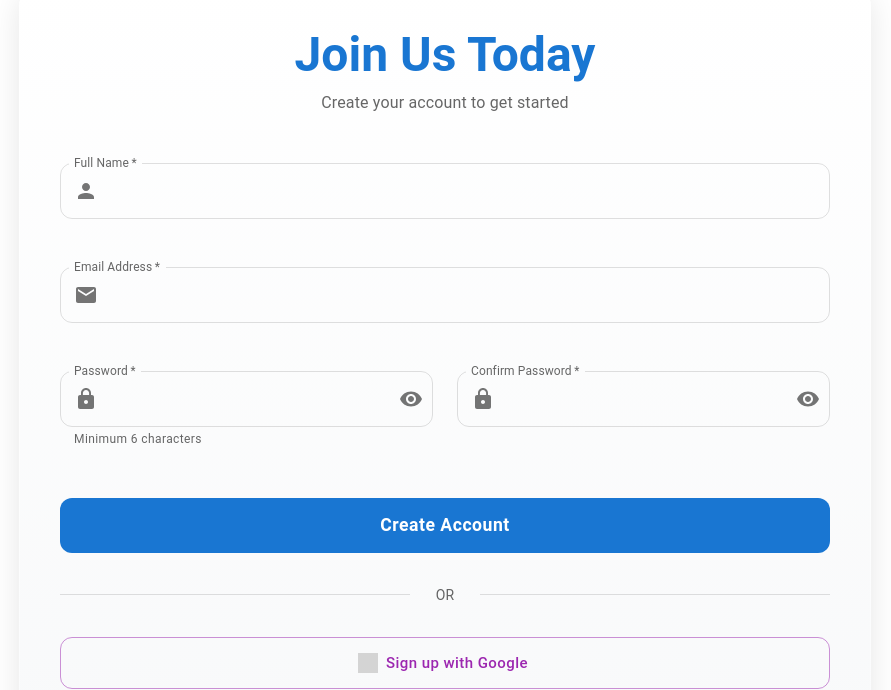
Test: Register Component › displays error when passwords do not match
Type "Test User" into the field labelled "Full Name *" at (468, 191), box [106, 163, 830, 219]
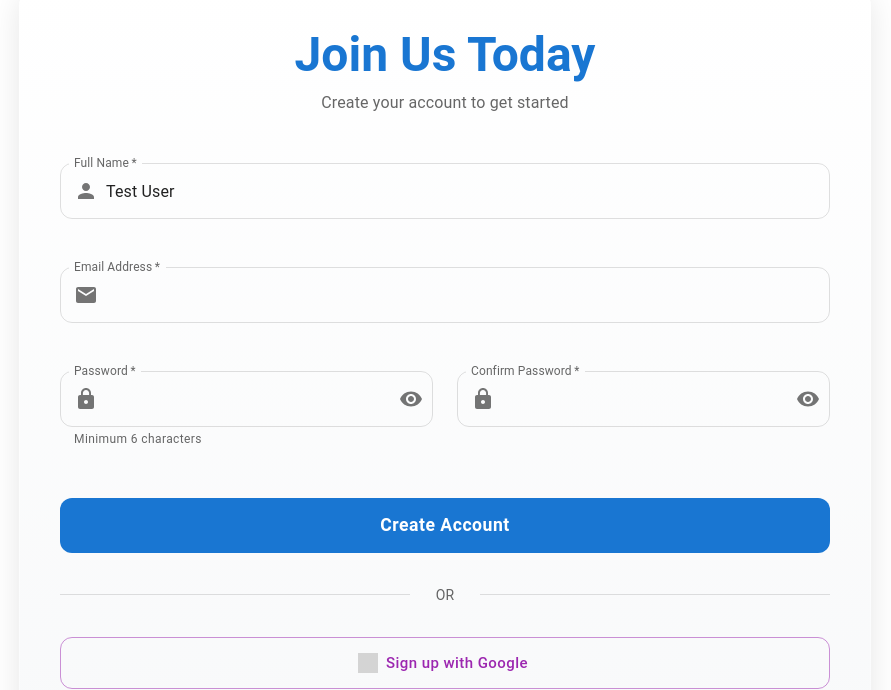
Type "test@example.com" into the field labelled "Email Address *" at (468, 295), box [106, 267, 830, 323]
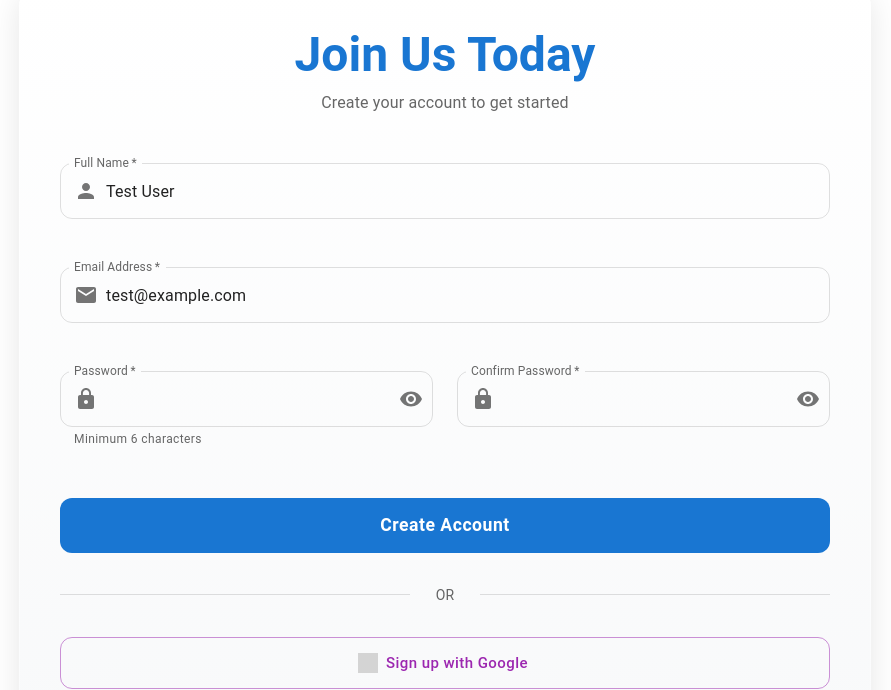
Type "password123" into the password field labelled "Password *" at (244, 399), box [106, 371, 383, 427]
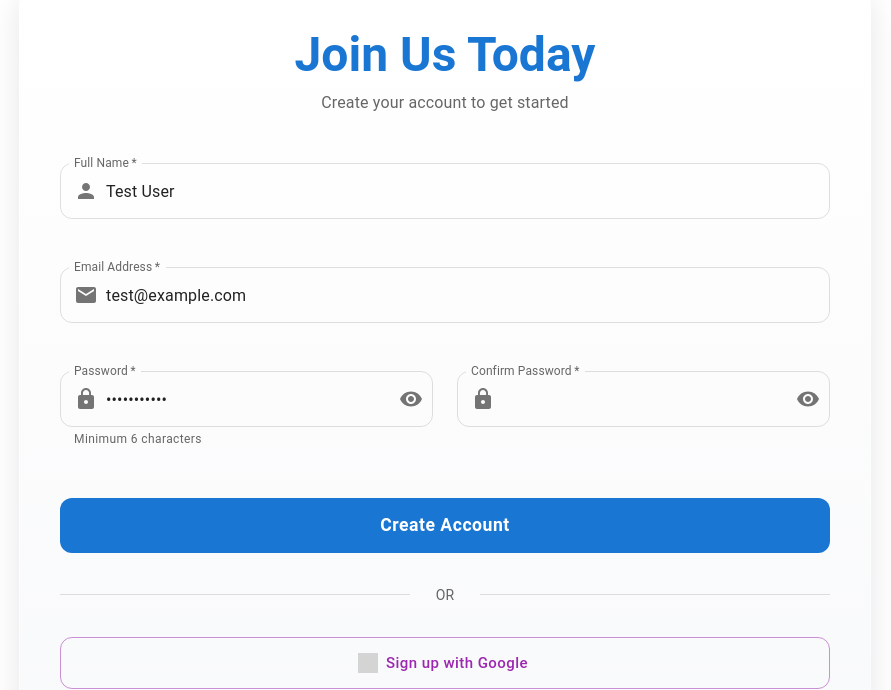
Type "password456" into the password field labelled "Confirm Password *" at (642, 399), box [503, 371, 780, 427]
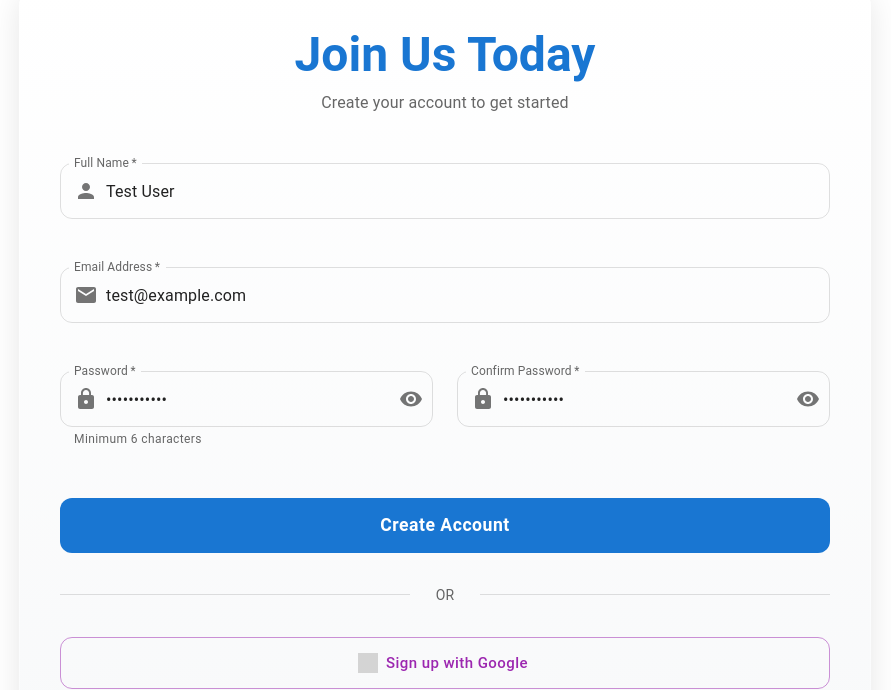
Click the button "Create Account" at (445, 525), box [60, 498, 830, 553]
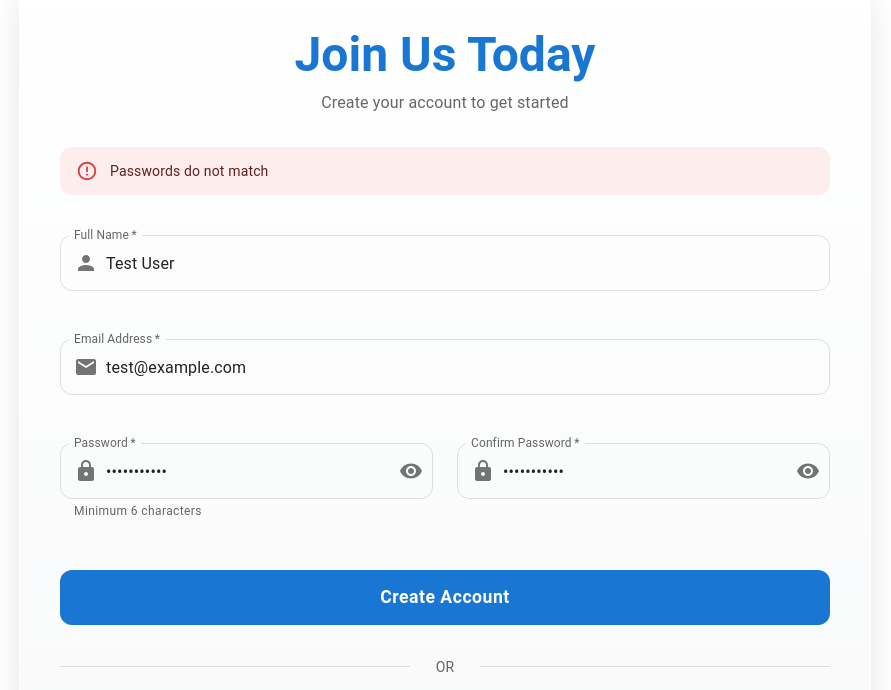
Expected: the text "Passwords do not match" is shown, [110, 163, 268, 179]
